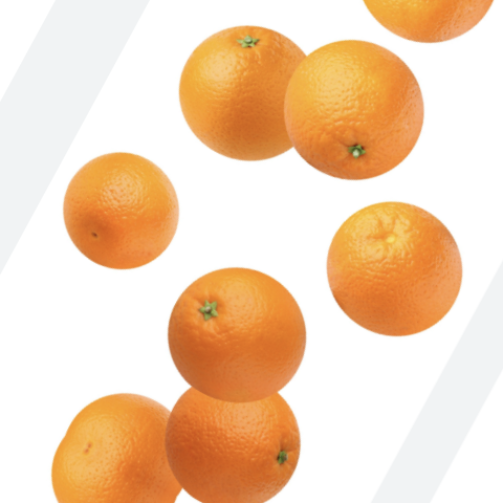orange: (287, 172, 497, 383), (249, 4, 460, 214), (133, 236, 335, 434), (146, 0, 350, 191), (129, 340, 346, 503), (37, 122, 205, 295), (56, 353, 222, 498)
